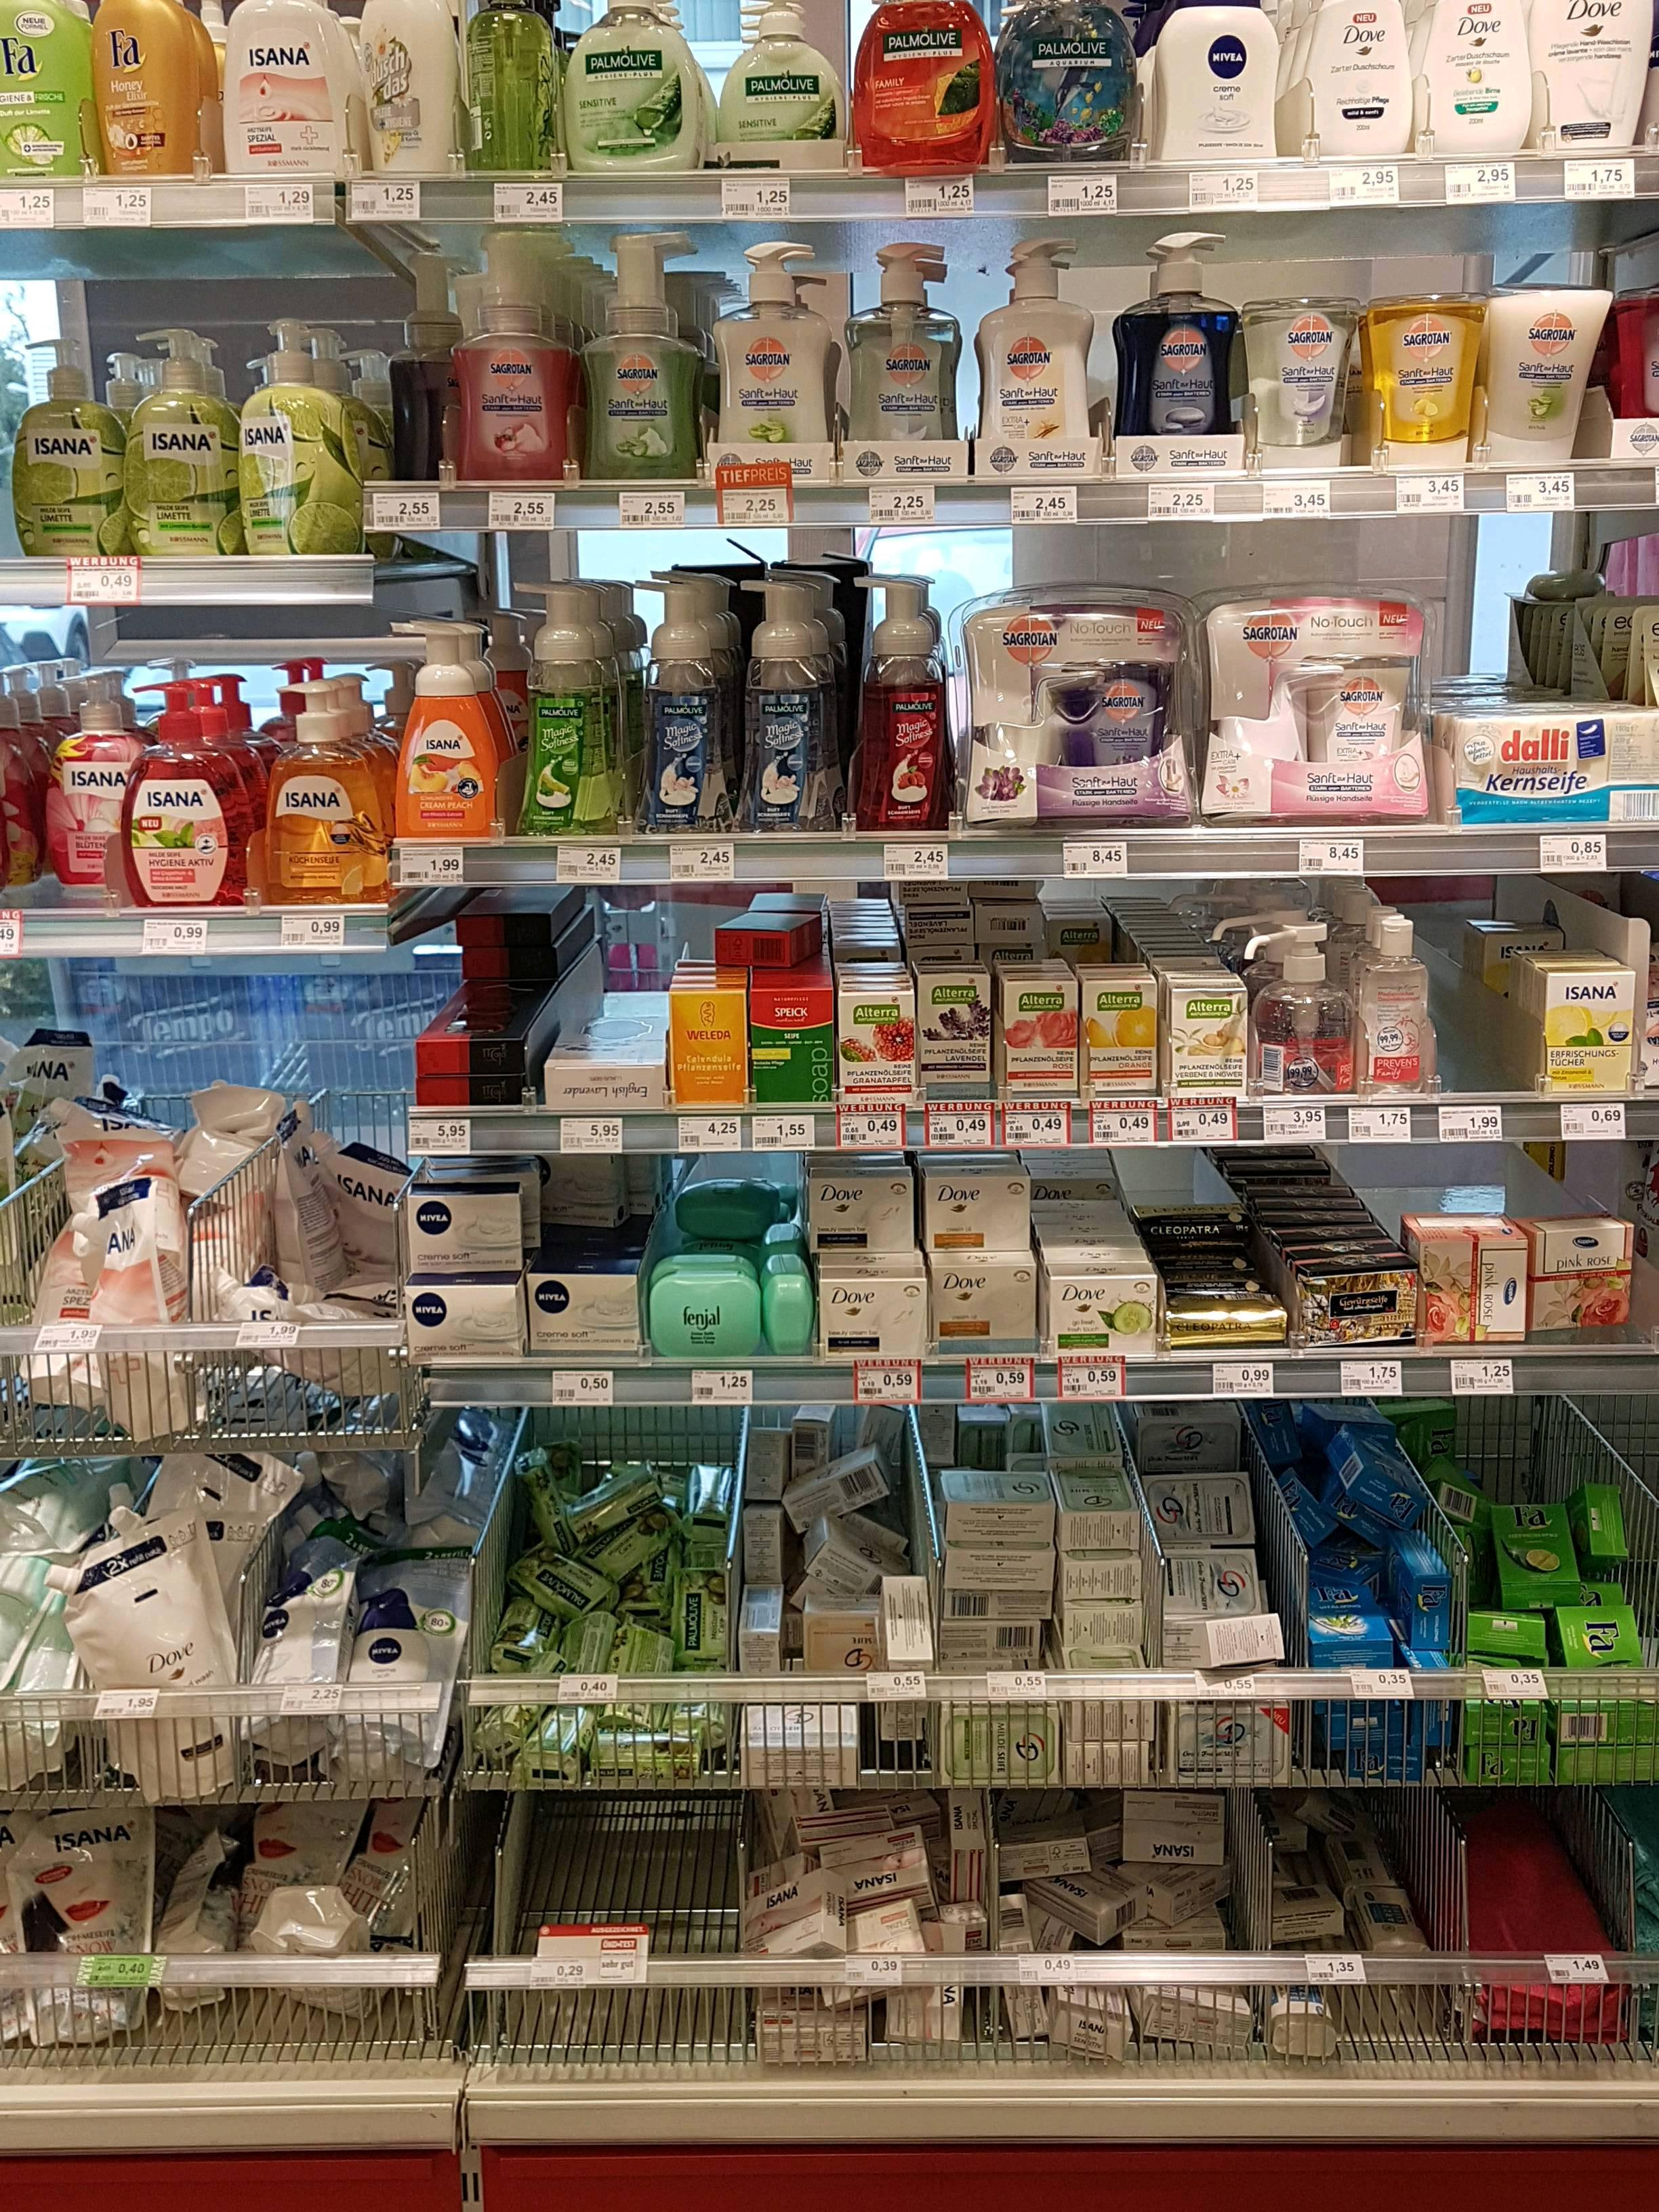empty: (533, 1794, 720, 1923), (1452, 864, 1521, 1085)
misalignment: (505, 1423, 932, 1686), (748, 1799, 1432, 1949), (42, 1050, 389, 1313), (1307, 1413, 1654, 1674), (71, 1460, 443, 1691), (169, 1806, 401, 1970), (1147, 1413, 1281, 1672)
